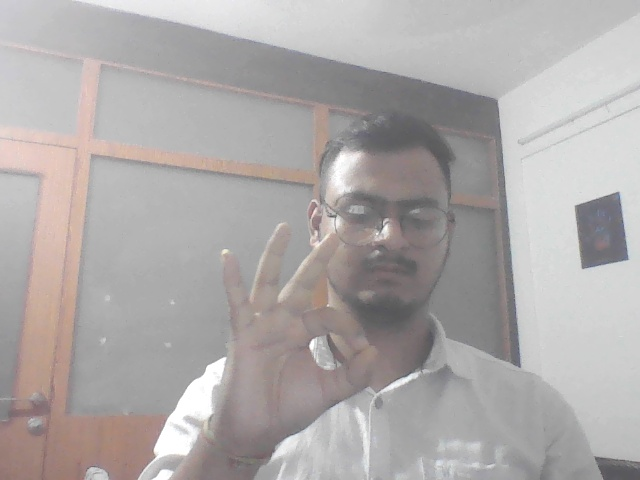OK: (206, 216, 381, 446)
